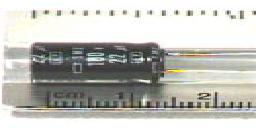Electrolytic-Capacitor: (28, 38, 256, 83)
